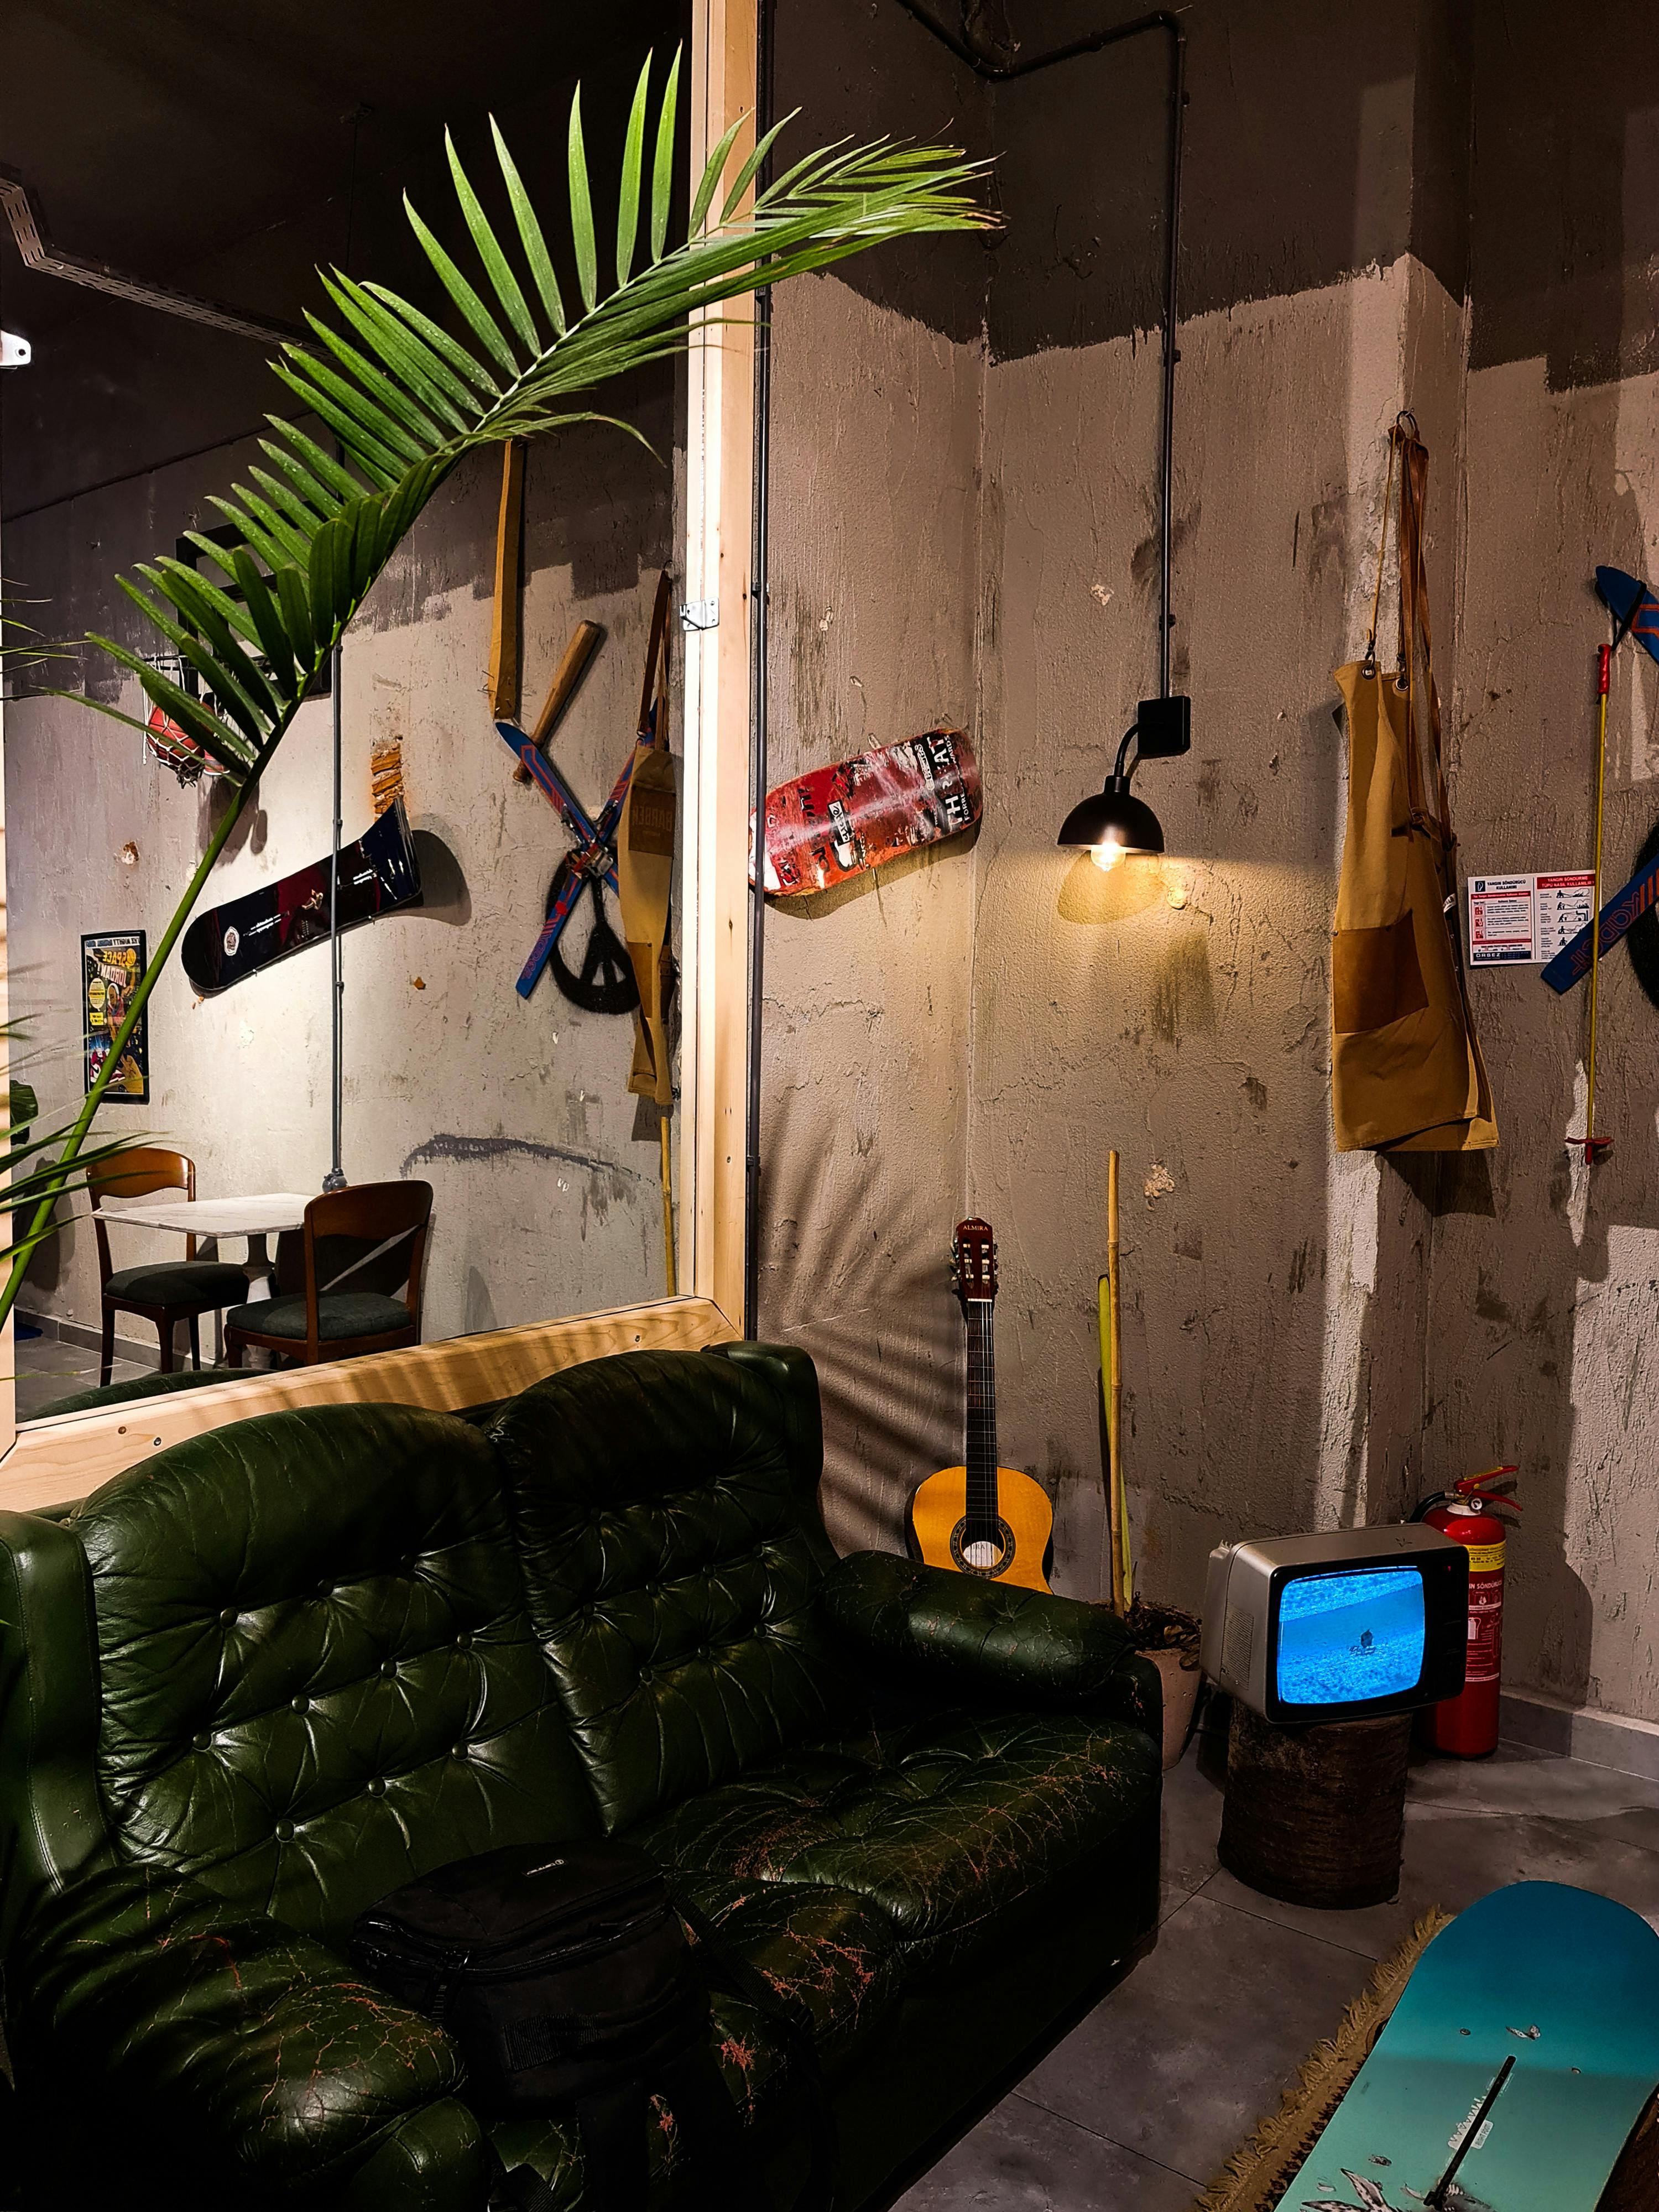extintor: (1405, 1456, 1532, 1761)
